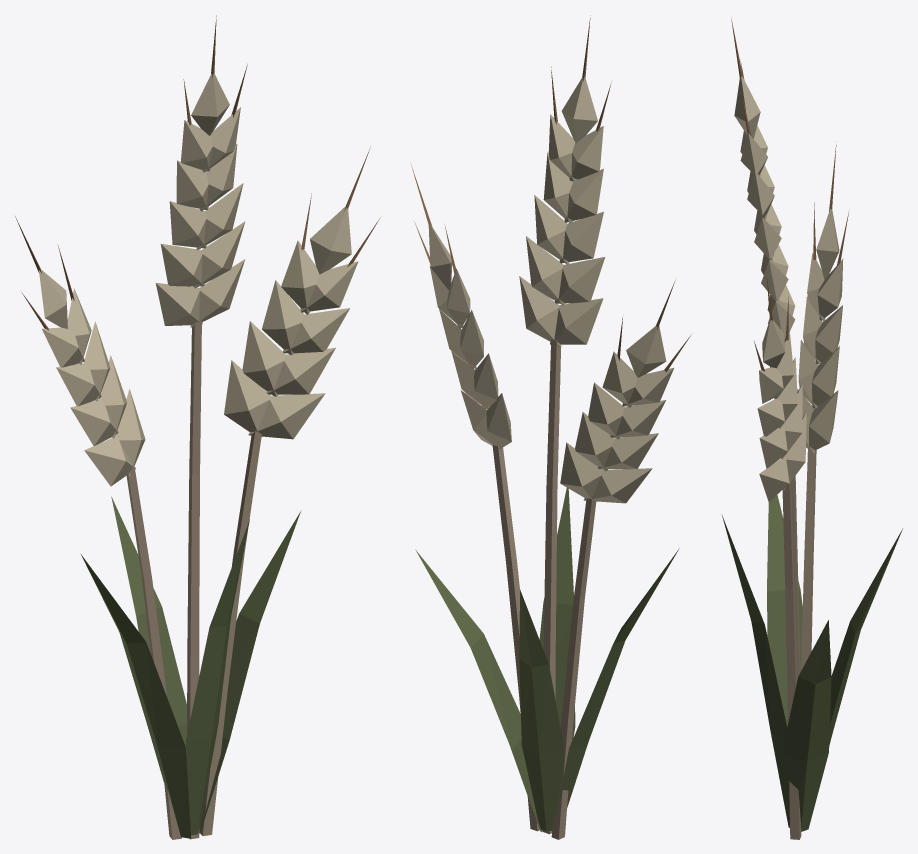
Rendered from wheat-plant.glb.
3 views of the same model, side by side, from view 1: azimuth 30°, elevation 25°; view 2: azimuth 150°, elevation 25°; view 3: azimuth 270°, elevation 25° (orthographic). The views are drawn at different scales.
Parts seen in each view (by area): view 1: wheat-plant-mesh, yield-2-mesh, yield-0-mesh, yield-1-mesh; view 2: wheat-plant-mesh, yield-0-mesh, yield-1-mesh, yield-2-mesh; view 3: wheat-plant-mesh, yield-1-mesh, yield-2-mesh, yield-0-mesh.
Boxes of the visible parts, box(x1,y1,x2,y2) form: wheat-plant-mesh: box(81, 320, 301, 839); yield-2-mesh: box(224, 146, 380, 439); yield-0-mesh: box(155, 15, 247, 327); yield-1-mesh: box(15, 216, 145, 486); wheat-plant-mesh: box(415, 339, 679, 839); yield-0-mesh: box(519, 15, 611, 347); yield-1-mesh: box(560, 280, 691, 503); yield-2-mesh: box(410, 163, 511, 451); wheat-plant-mesh: box(721, 446, 902, 839); yield-1-mesh: box(797, 145, 849, 453); yield-2-mesh: box(754, 276, 806, 501); yield-0-mesh: box(731, 18, 795, 338).
Bounding box in the file's own units: 0.3641 × 0.8959 × 0.182.
